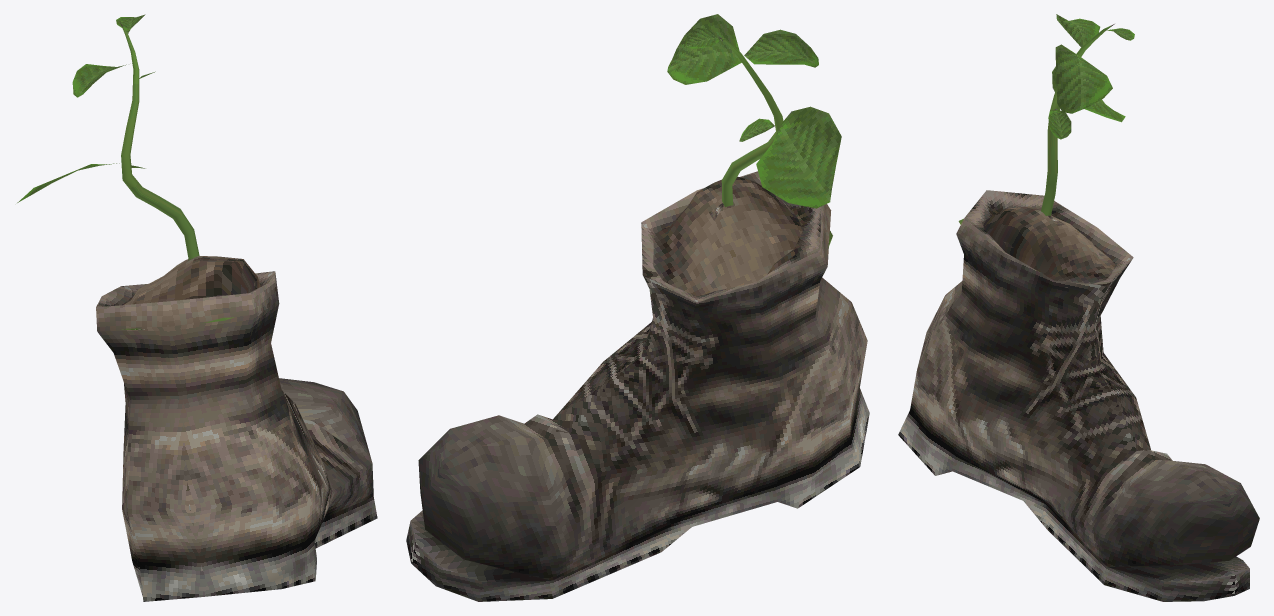
Rendered from ps2_save-icons_walle.glb.
The picture shows the model from 3 angles, left to right: view 1: azimuth 30°, elevation 25°; view 2: azimuth 150°, elevation 25°; view 3: azimuth 270°, elevation 25°; orthographic projection. The views are drawn at different scales.
Visible parts, largest first — view 1: listicon.ico; view 2: listicon.ico; view 3: listicon.ico.
Boxes of the visible parts, x1,y1,x2,y2 form: listicon.ico: (17, 14, 377, 601); listicon.ico: (406, 14, 869, 601); listicon.ico: (898, 14, 1259, 601).
Bounding box in the file's own units: 1.62 × 2.32 × 1.56.
1 material, 1 textured.
